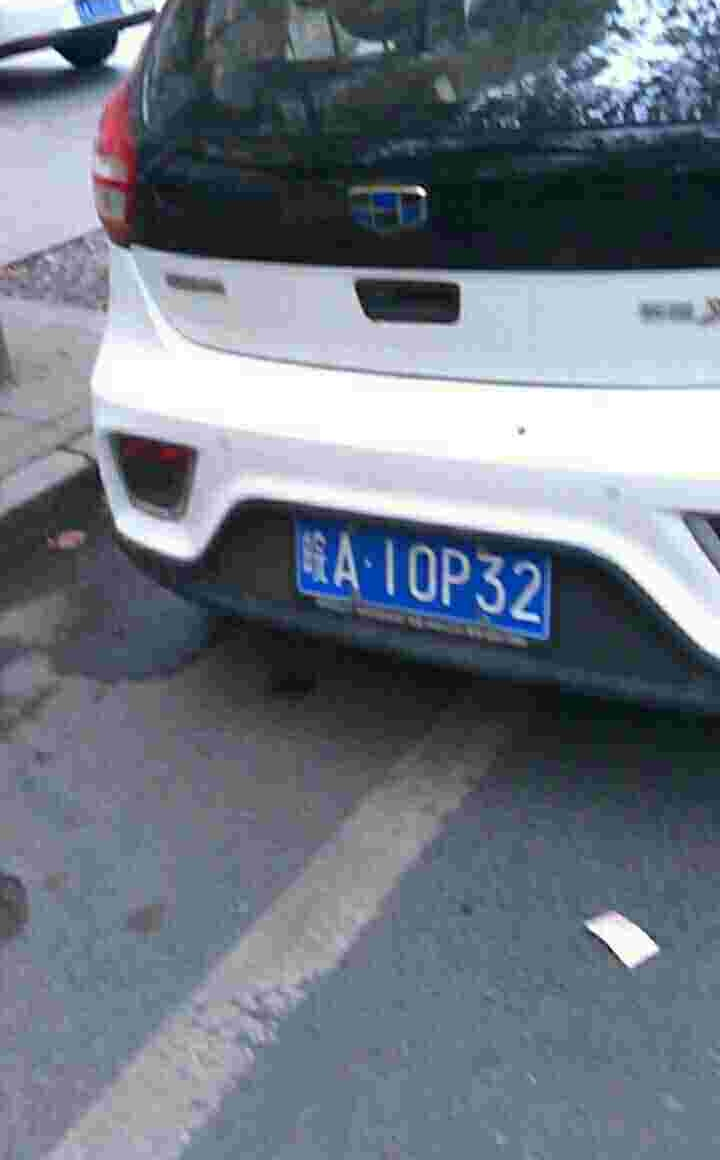license_plate: (295, 519, 550, 623)
